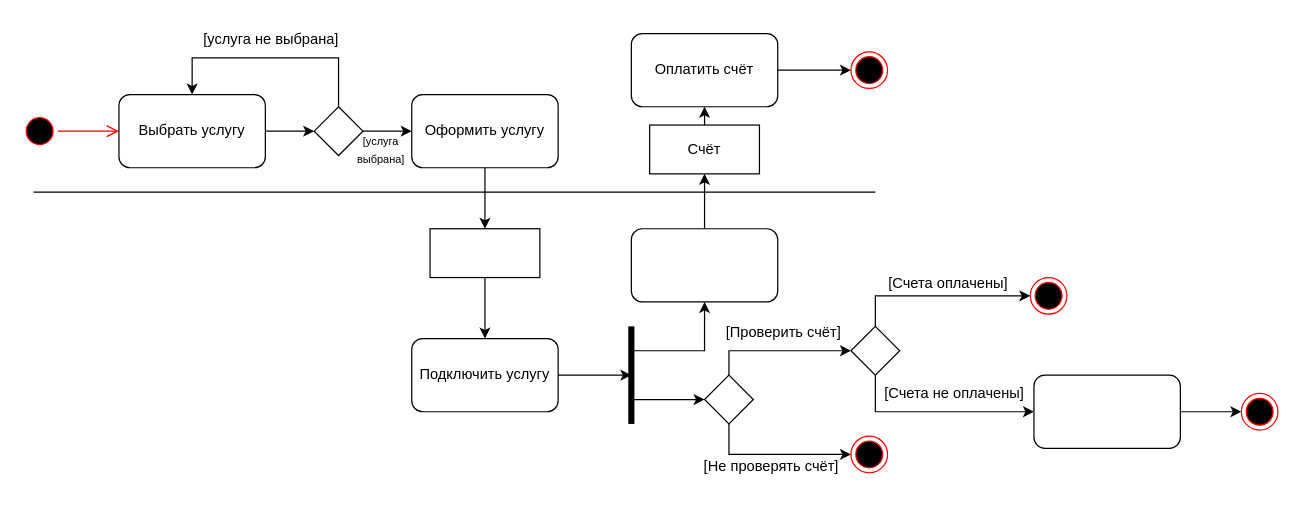
This 1299x505 diagram has some shape labels left out. The centre of each missing label's shape, as x and y in pixels:
Выдать сумму за услугу: the point at 704,265
Заблокировать абонента: the point at 1106,411
Услуга: the point at 484,253
